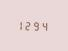four: (39, 20, 45, 31)
nine: (32, 19, 38, 31)
one: (18, 19, 24, 30)
two: (25, 19, 31, 30)
